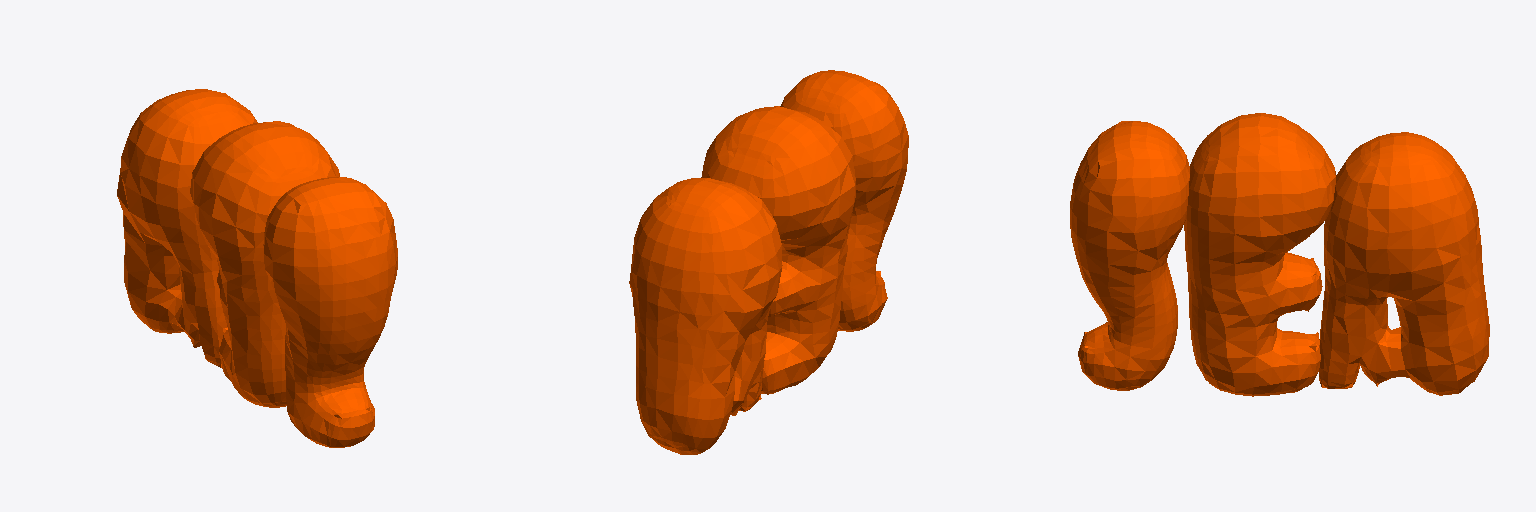
Rendered from 15_sea.obj.
3 views of the same model, side by side, from view 1: azimuth 30°, elevation 25°; view 2: azimuth 150°, elevation 25°; view 3: azimuth 270°, elevation 25° (orthographic).
Parts seen in each view (by area): view 1: _sea:seapolySurface178polySurface170polySurface165polySurface161; view 2: _sea:seapolySurface178polySurface170polySurface165polySurface161; view 3: _sea:seapolySurface178polySurface170polySurface165polySurface161.
Part boxes in pixels (left/top/right/bottom): _sea:seapolySurface178polySurface170polySurface165polySurface161: left=117, top=89, right=397, bottom=447; _sea:seapolySurface178polySurface170polySurface165polySurface161: left=629, top=70, right=908, bottom=454; _sea:seapolySurface178polySurface170polySurface165polySurface161: left=1070, top=113, right=1489, bottom=396.
Size of the model in its own units: 0.154 by 0.2989 by 0.4226.